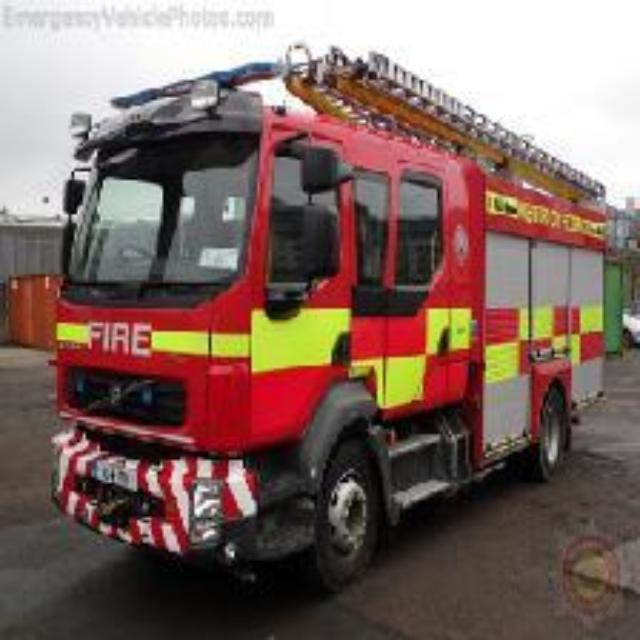emergency: (61, 60, 581, 548)
